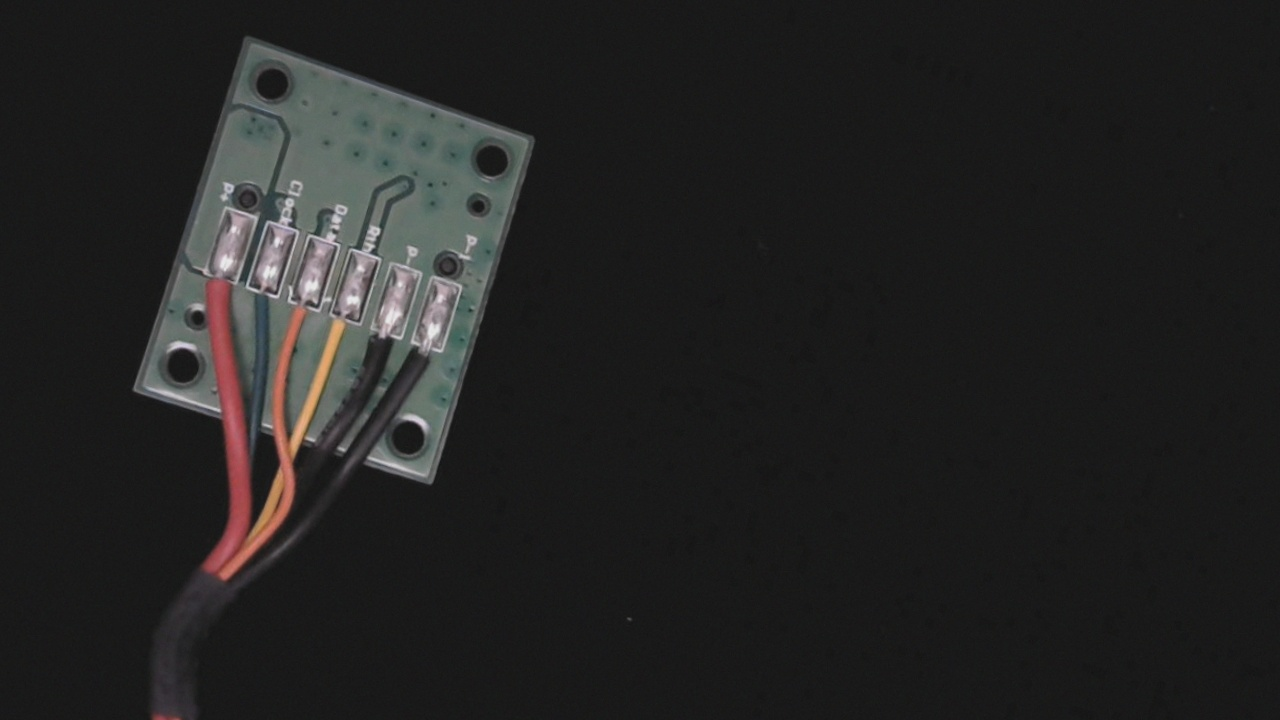Black: (354, 316, 406, 388)
Black1: (395, 328, 447, 401)
Green: (229, 271, 284, 343)
Orange: (273, 287, 322, 360)
Red: (186, 257, 242, 334)
Yellow: (310, 301, 366, 378)
